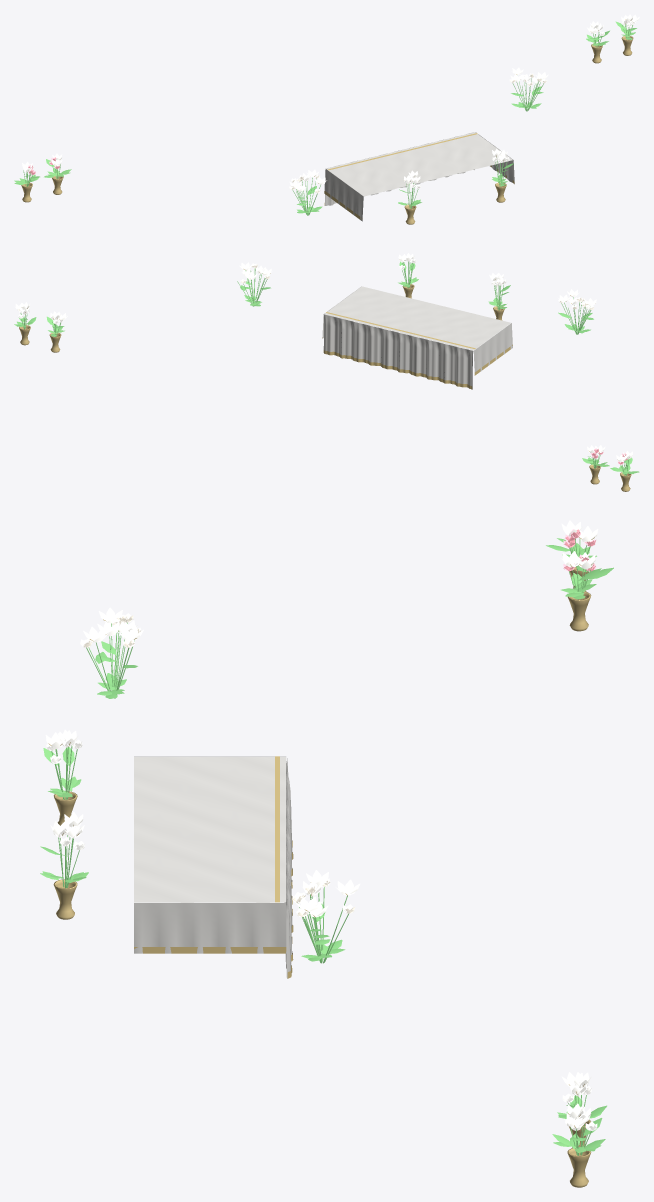
Rendered from lotprop__lot_chapel_nave_props.glb.
The picture shows the model from 3 angles, top to bottom: view 1: azimuth 30°, elevation 25°; view 2: azimuth 150°, elevation 25°; view 3: azimuth 270°, elevation 25°; orthographic projection. The views are drawn at different scales.
Visible parts, largest first — view 1: lotprop__lot_chapel_nave_props; view 2: lotprop__lot_chapel_nave_props; view 3: lotprop__lot_chapel_nave_props.
Part boxes in pixels (bbox=[...]): lotprop__lot_chapel_nave_props: bbox=[14, 14, 639, 224]; lotprop__lot_chapel_nave_props: bbox=[14, 253, 639, 491]; lotprop__lot_chapel_nave_props: bbox=[40, 520, 613, 1187].
Size of the model in its own units: 8.99 by 1.05 by 3.58.
